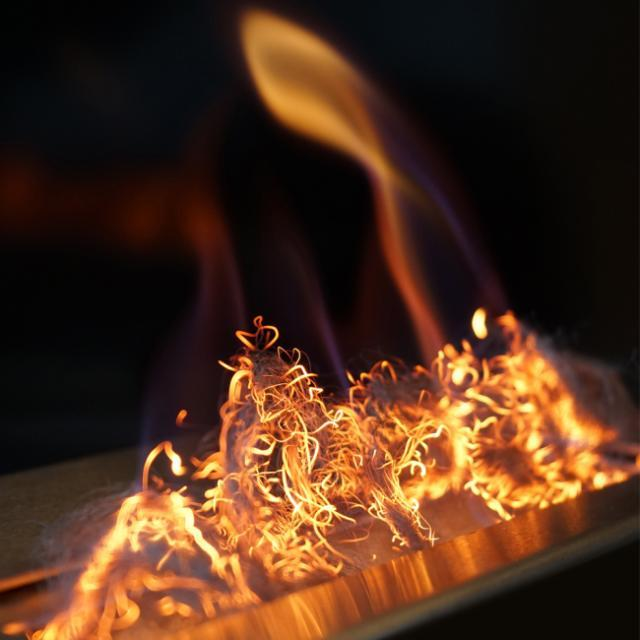Fire: (233, 10, 529, 376)
